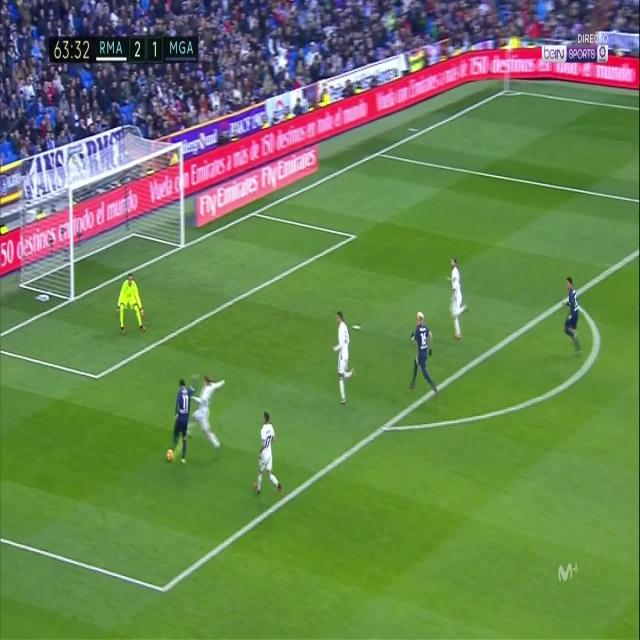Ball: (166, 446, 174, 466)
Goalkeeper: (115, 272, 149, 336)
Player: (409, 310, 443, 398), (192, 375, 228, 457), (252, 408, 284, 498), (333, 309, 359, 407), (444, 254, 472, 340), (170, 376, 194, 467), (562, 277, 586, 359)
